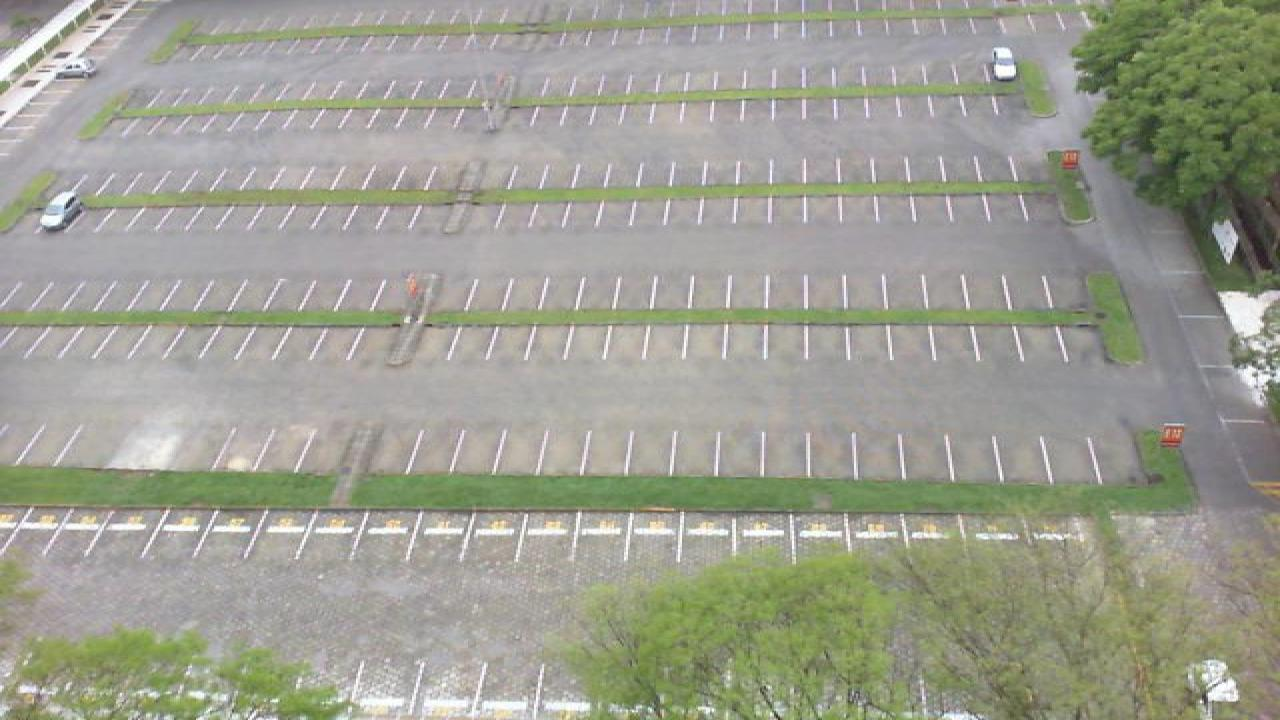Car: (36, 189, 86, 232), (50, 55, 94, 79), (990, 46, 1020, 81)
